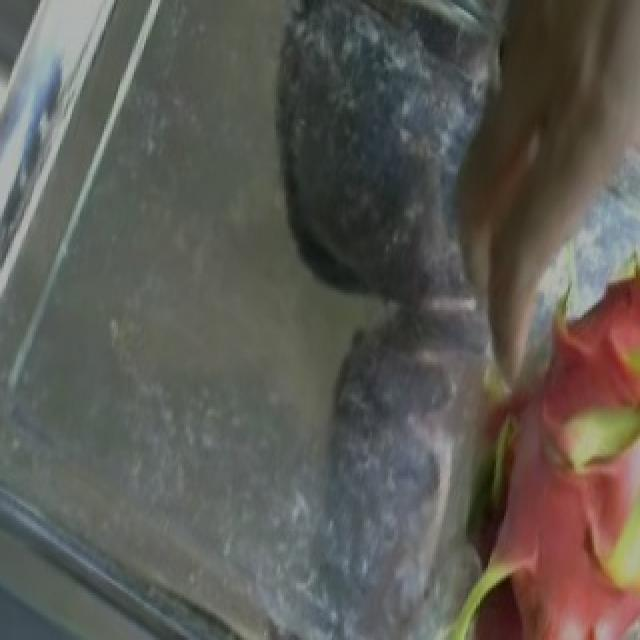fruit: (328, 221, 640, 637)
